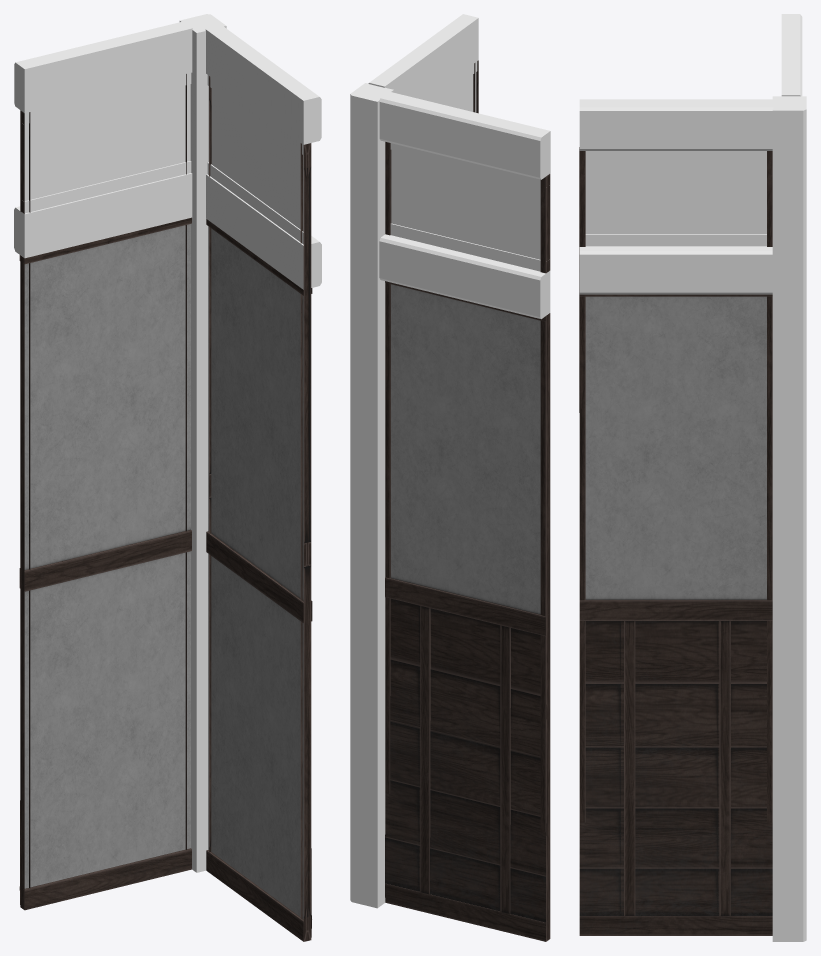
Rendered from WallHalf_Angle03.FBX.
3 views of the same model, side by side, from view 1: azimuth 30°, elevation 25°; view 2: azimuth 150°, elevation 25°; view 3: azimuth 270°, elevation 25° (orthographic). The views are drawn at different scales.
Visible parts, largest first — view 1: WallHalf_A_026, WallHalf_A_023, WallHalf_A_027, WallHalf_A_025, WallHalf_A_028, WallHalf_A_024, WallHalf_A_022; view 2: WallHalf_A_026, WallHalf_A_028, WallHalf_A_027, WallHalf_A_025, WallHalf_A_024, WallHalf_A_022; view 3: WallHalf_A_023, WallHalf_A_028, WallHalf_A_024, WallHalf_A_022, WallHalf_A_027.
Part boxes in pixels (x1=…): WallHalf_A_026: x1=19, y1=74, x2=191, y2=910; WallHalf_A_023: x1=206, y1=76, x2=312, y2=941; WallHalf_A_027: x1=14, y1=21, x2=192, y2=258; WallHalf_A_025: x1=24, y1=73, x2=191, y2=213; WallHalf_A_028: x1=179, y1=14, x2=226, y2=872; WallHalf_A_024: x1=205, y1=25, x2=321, y2=289; WallHalf_A_022: x1=207, y1=75, x2=303, y2=244; WallHalf_A_026: x1=385, y1=142, x2=550, y2=941; WallHalf_A_028: x1=350, y1=83, x2=393, y2=908; WallHalf_A_027: x1=379, y1=91, x2=550, y2=319; WallHalf_A_025: x1=390, y1=143, x2=540, y2=271; WallHalf_A_024: x1=368, y1=14, x2=478, y2=99; WallHalf_A_022: x1=424, y1=61, x2=477, y2=112; WallHalf_A_023: x1=579, y1=147, x2=772, y2=935; WallHalf_A_028: x1=772, y1=96, x2=806, y2=941; WallHalf_A_024: x1=579, y1=99, x2=773, y2=294; WallHalf_A_022: x1=585, y1=151, x2=766, y2=246; WallHalf_A_027: x1=781, y1=14, x2=802, y2=96.
Size of the model in its own units: 0.8095 by 3.3 by 0.8149.
